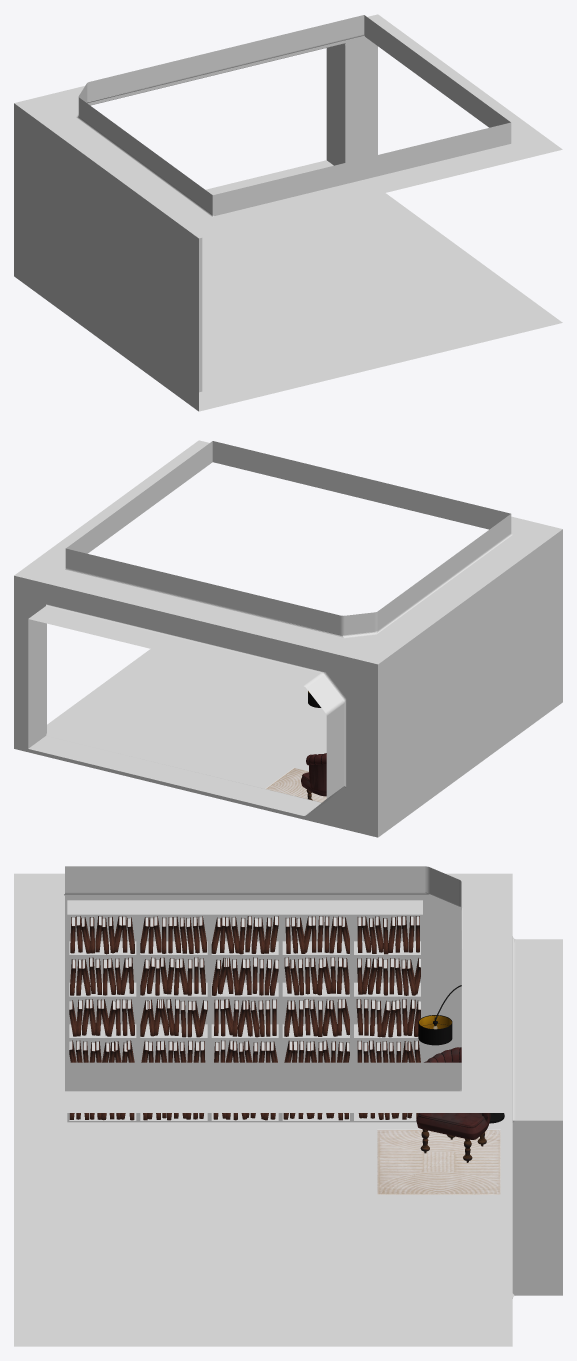
The model's file is spaceship-room.gltf.
3 renders of one model, top to bottom at view 1: azimuth 30°, elevation 25°; view 2: azimuth 150°, elevation 25°; view 3: azimuth 270°, elevation 25°, orthographic. The views are drawn at different scales.
Visible parts, largest first — view 1: Room, Book Shelf; view 2: Room, Final:pSphere6, Rug; view 3: Room, Joined Mesh, Book Shelf, Rug, Final:pSphere6, LAMP_SHADE.
Part boxes in pixels (<box>): Room: <box>14,14,562,411</box>; Book Shelf: <box>199,238,202,392</box>; Room: <box>14,440,562,837</box>; Final:pSphere6: <box>301,753,326,800</box>; Rug: <box>265,768,326,802</box>; Room: <box>14,866,562,1346</box>; Joined Mesh: <box>69,916,420,1120</box>; Book Shelf: <box>67,900,422,1122</box>; Rug: <box>377,1129,500,1194</box>; Final:pSphere6: <box>416,1047,490,1162</box>; LAMP_SHADE: <box>418,1015,452,1045</box>.
Size of the model in its own units: 8.32 by 4.25 by 8.05.
Materials: 13 (9 with a texture image).
